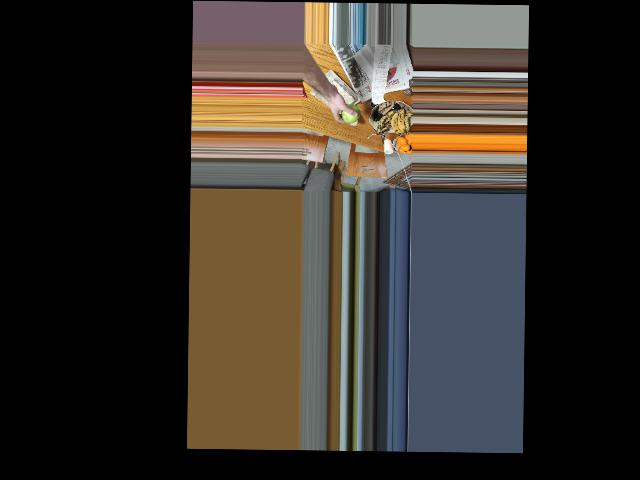apple: (340, 103, 360, 124)
